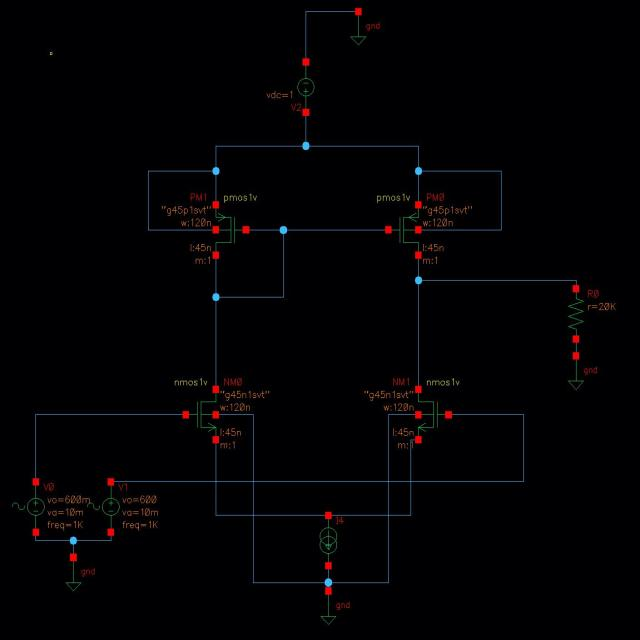gnd: (564, 350, 603, 395), (318, 586, 357, 626), (64, 554, 97, 600), (348, 7, 384, 49)
idc: (313, 510, 346, 572)
nmos: (168, 376, 222, 444), (412, 376, 462, 446)
pmos: (374, 190, 424, 267), (210, 191, 255, 263)
res: (564, 282, 586, 344)
vdc: (264, 56, 319, 121)
vsin: (9, 479, 46, 537), (85, 478, 122, 535)
